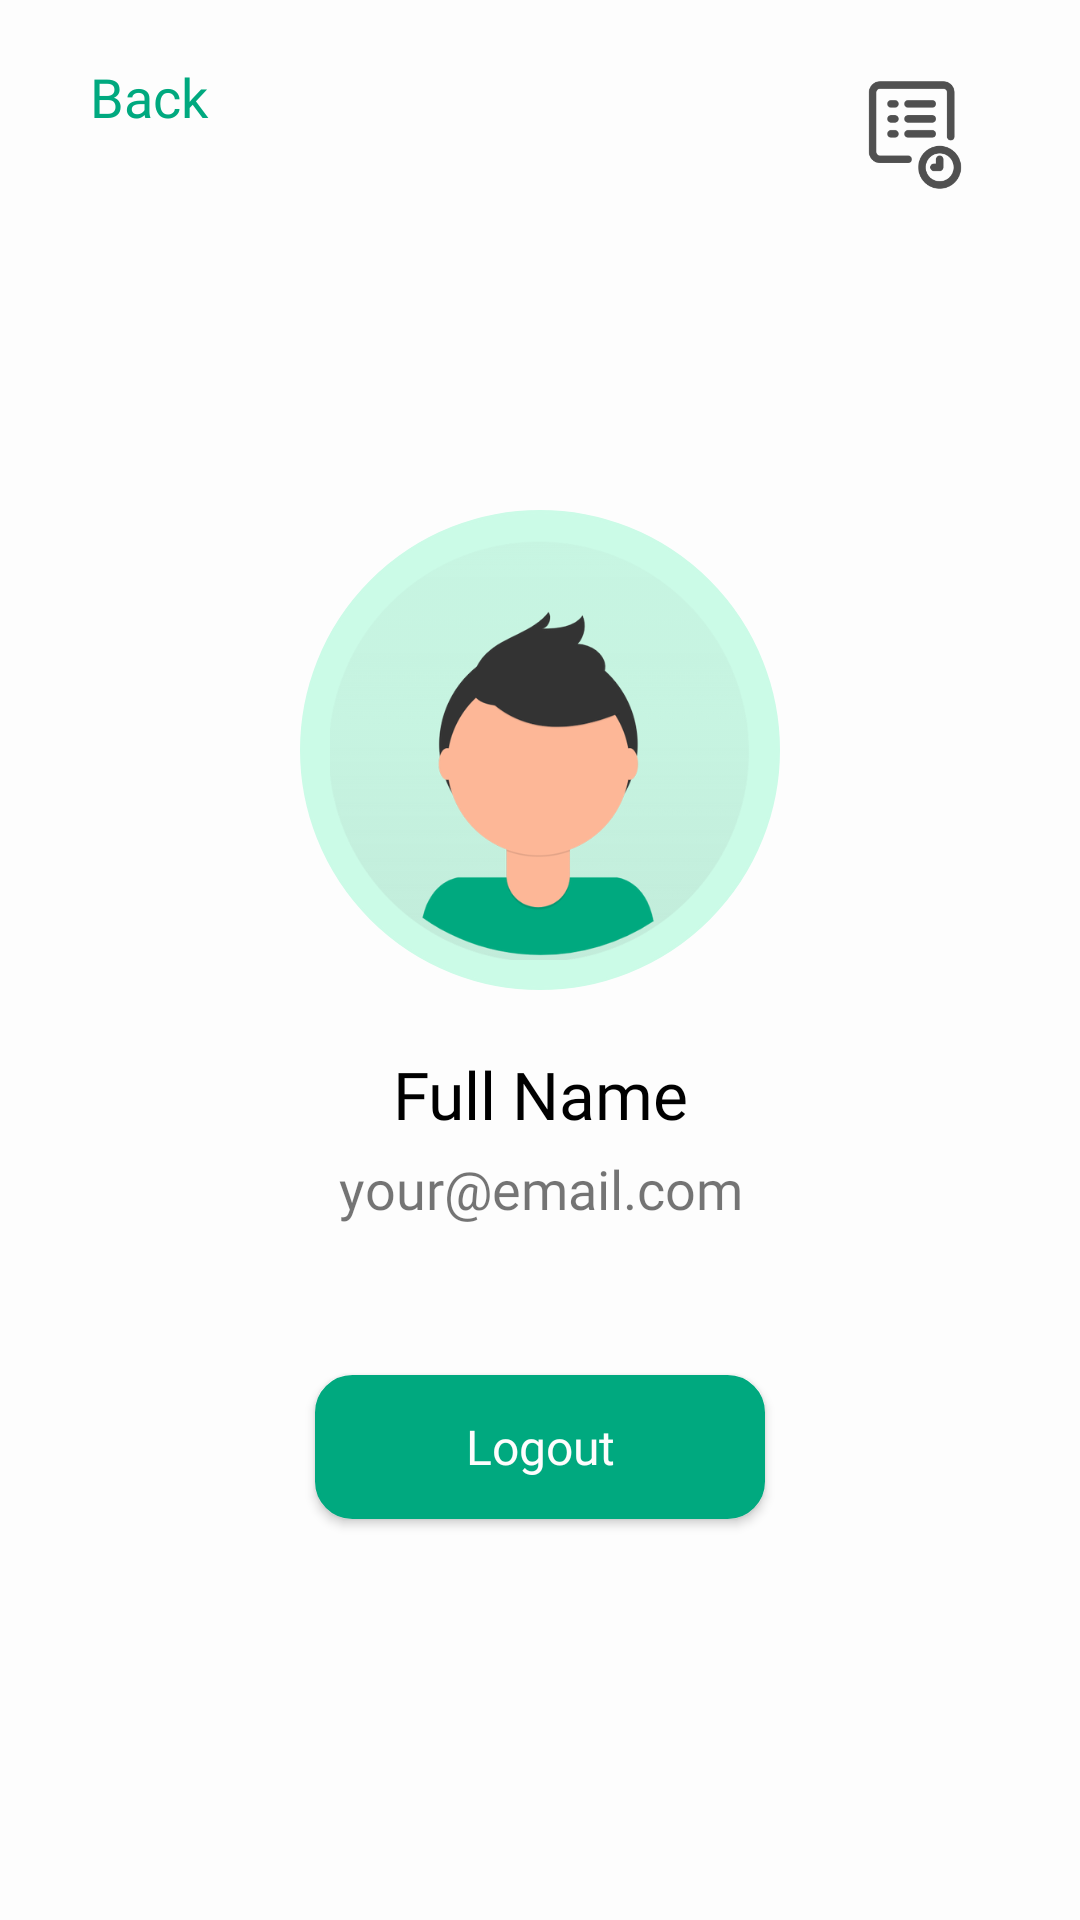

Icon bounding boxes for this 1080px×1920px phone screenshot, format (x1, y1, x2, y2):
history: (869, 81, 961, 189)
